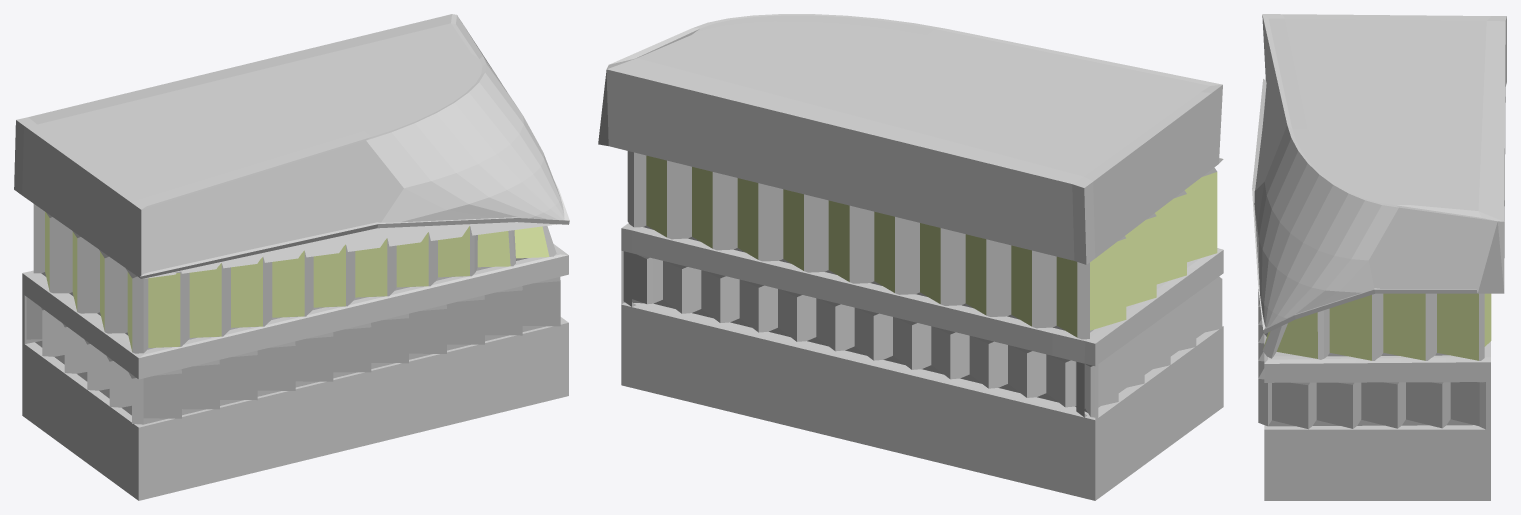
File: buldingnewFinalUnwrapped.fbx
3 views of the same model, side by side, from view 1: azimuth 30°, elevation 25°; view 2: azimuth 150°, elevation 25°; view 3: azimuth 270°, elevation 25° (orthographic). The views are drawn at different scales.
Parts seen in each view (by area): view 1: Roof, BAse, winows bottom, windows top; view 2: Roof, BAse, windows top, winows bottom; view 3: Roof, BAse, windows top, winows bottom.
Part boxes in pixels (left/top/right/bottom): Roof: left=14, top=14, right=569, bottom=278; BAse: left=22, top=204, right=568, bottom=500; winows bottom: left=26, top=281, right=560, bottom=418; windows top: left=45, top=212, right=549, bottom=351; Roof: left=598, top=14, right=1223, bottom=264; BAse: left=621, top=151, right=1223, bottom=500; windows top: left=646, top=155, right=1217, bottom=337; winows bottom: left=632, top=253, right=1222, bottom=416; Roof: left=1252, top=14, right=1506, bottom=333; BAse: left=1258, top=289, right=1490, bottom=500; windows top: left=1263, top=293, right=1491, bottom=360; winows bottom: left=1272, top=382, right=1479, bottom=428.
Size of the model in its own units: 10077 by 6325 by 5106.
